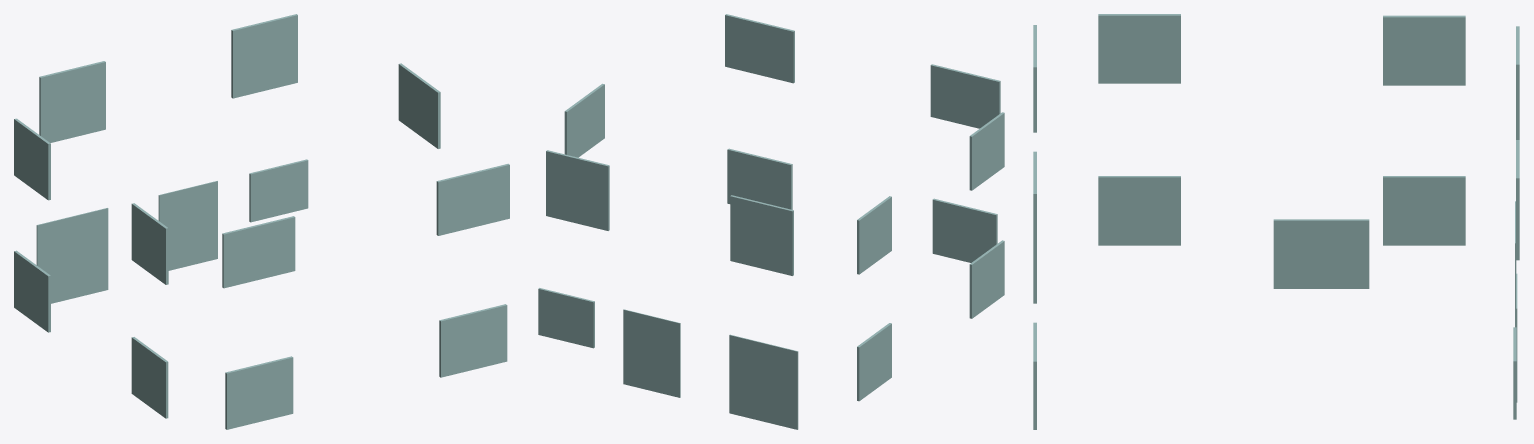
The model's file is Windows_unsized.obj.
The picture shows the model from 3 angles, left to right: view 1: azimuth 30°, elevation 25°; view 2: azimuth 150°, elevation 25°; view 3: azimuth 270°, elevation 25°; orthographic projection. The views are drawn at different scales.
Parts seen in each view (by area): view 1: polySurface145 polySurface390, polySurface145 polySurface321, polySurface145 polySurface363, polySurface145 polySurface389, polySurface145 polySurface388, polySurface145 polySurface336, polySurface145 polySurface360, polySurface339 polySurface145, polySurface145 polySurface393, polySurface145 polySurface422, polySurface145 polySurface473, polySurface145 polySurface475 (+2 smaller); view 2: polySurface145 polySurface390, polySurface145 polySurface389, polySurface145 polySurface363, polySurface145 polySurface321, polySurface145 polySurface336, polySurface145 polySurface388, polySurface339 polySurface145, polySurface145 polySurface360, polySurface145 polySurface393, polySurface145 polySurface422, polySurface145 polySurface475, polySurface145 polySurface473 (+2 smaller); view 3: polySurface145 polySurface422, polySurface145 polySurface470, polySurface145 polySurface475, polySurface145 polySurface473, polySurface145 polySurface303, polySurface145 polySurface321.
Boxes of the visible parts, x1,y1,x2,y2 form: polySurface145 polySurface390: (36, 208, 108, 303); polySurface145 polySurface321: (231, 14, 297, 98); polySurface145 polySurface363: (39, 61, 105, 142); polySurface145 polySurface389: (158, 181, 217, 270); polySurface145 polySurface388: (222, 216, 295, 288); polySurface145 polySurface336: (436, 163, 509, 235); polySurface145 polySurface360: (439, 304, 507, 377); polySurface339 polySurface145: (225, 356, 293, 429); polySurface145 polySurface393: (249, 159, 308, 222); polySurface145 polySurface422: (398, 63, 440, 148); polySurface145 polySurface473: (131, 337, 168, 418); polySurface145 polySurface475: (131, 203, 168, 284); polySurface145 polySurface390: (729, 334, 798, 429); polySurface145 polySurface389: (623, 309, 680, 397); polySurface145 polySurface363: (730, 195, 793, 275); polySurface145 polySurface321: (546, 150, 609, 230); polySurface145 polySurface336: (725, 14, 794, 83); polySurface145 polySurface388: (930, 64, 1000, 128); polySurface339 polySurface145: (932, 198, 997, 262); polySurface145 polySurface360: (727, 148, 792, 209); polySurface145 polySurface393: (538, 288, 594, 348); polySurface145 polySurface422: (564, 83, 604, 157); polySurface145 polySurface475: (969, 112, 1004, 190); polySurface145 polySurface473: (969, 240, 1004, 318); polySurface145 polySurface422: (1273, 219, 1369, 288); polySurface145 polySurface470: (1383, 15, 1465, 85); polySurface145 polySurface475: (1098, 14, 1180, 83); polySurface145 polySurface473: (1098, 176, 1180, 245); polySurface145 polySurface303: (1383, 176, 1465, 245); polySurface145 polySurface321: (1516, 140, 1519, 260).
Bounding box in the file's own units: 24.44 × 15.34 × 24.47.
Materials: 1 (1 with a texture image).
